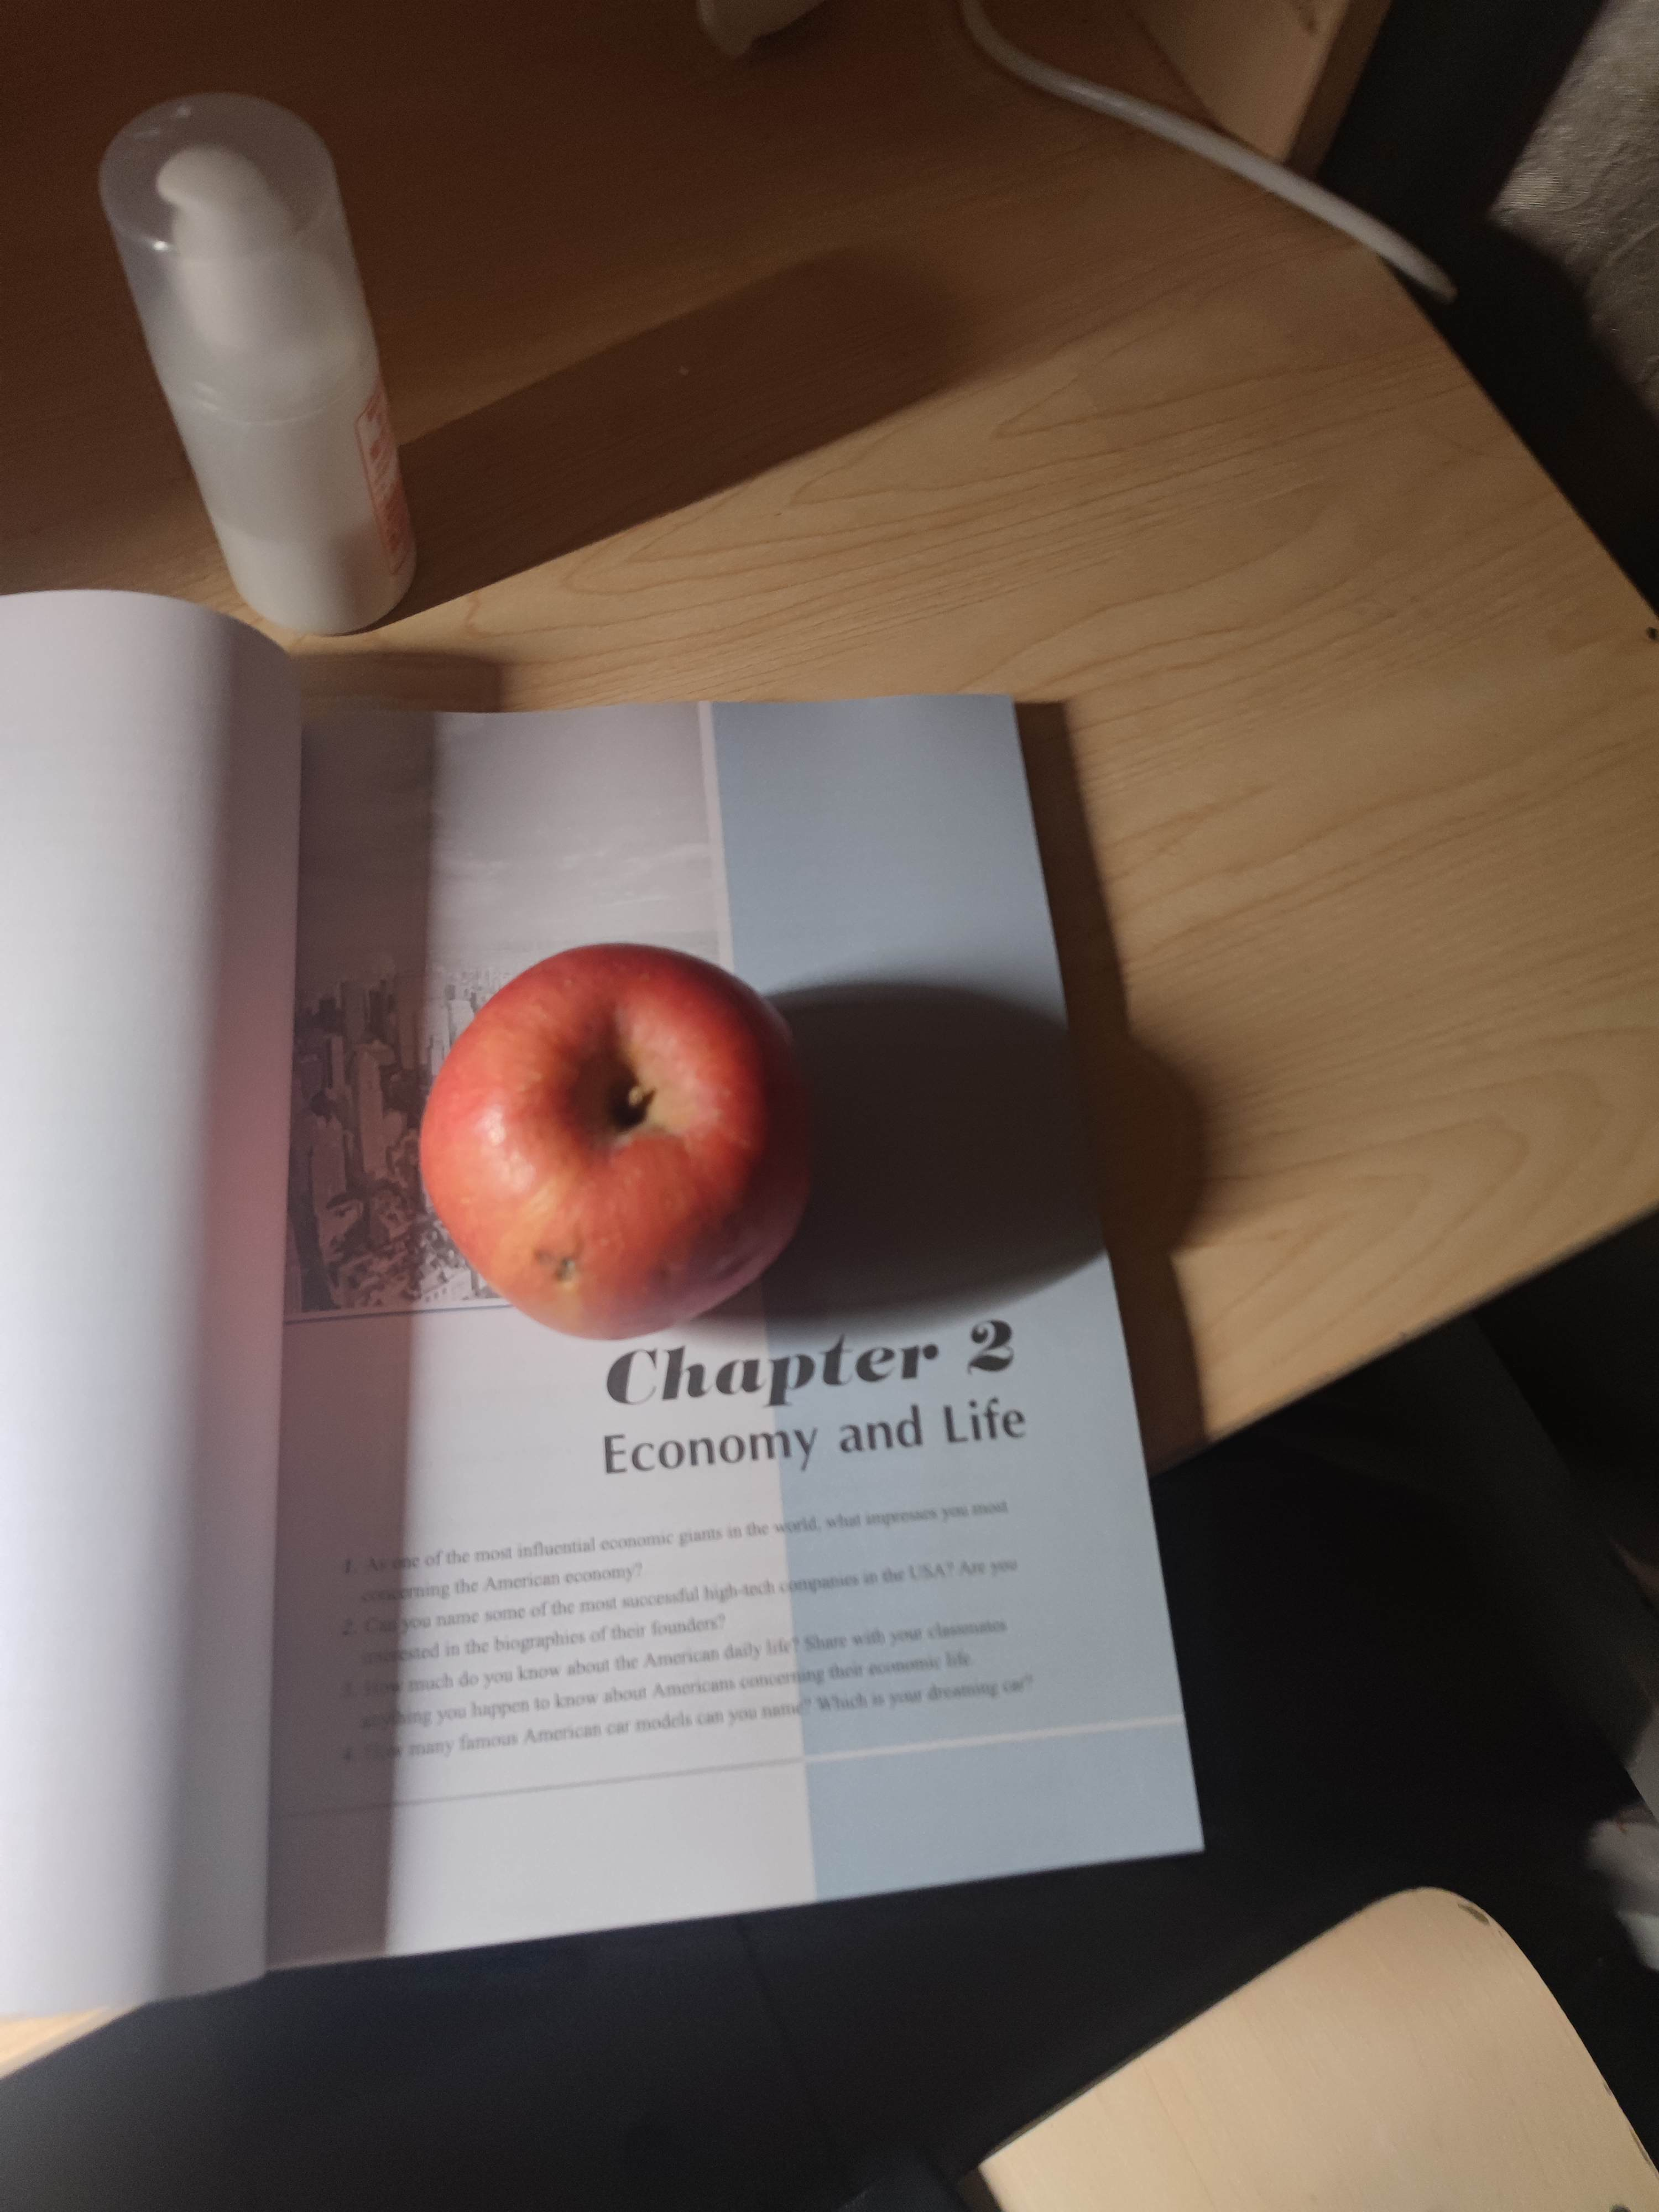apple: (408, 930, 816, 1348)
